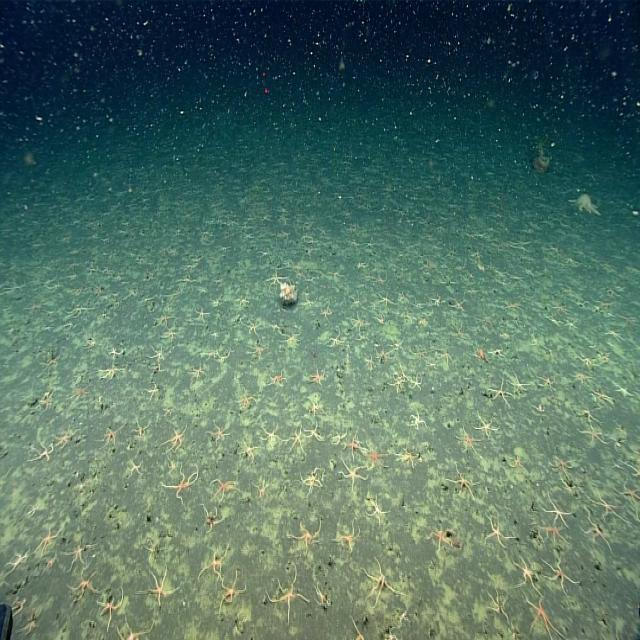brittle-stars: (267, 572, 306, 614), (524, 594, 558, 640), (215, 570, 247, 615), (362, 559, 395, 601), (144, 564, 174, 606), (580, 508, 610, 550), (162, 466, 199, 498), (447, 464, 479, 500), (513, 554, 541, 595), (292, 517, 322, 555), (484, 508, 510, 551), (198, 546, 228, 583), (542, 555, 572, 592), (592, 490, 625, 521), (542, 494, 572, 528), (453, 421, 479, 456), (68, 569, 98, 599), (337, 457, 365, 489), (487, 372, 512, 407), (98, 586, 122, 621), (578, 422, 610, 447), (34, 524, 62, 552), (162, 423, 188, 453), (210, 477, 239, 502), (549, 451, 572, 482), (65, 539, 92, 565), (487, 587, 510, 617), (475, 412, 498, 442), (619, 482, 640, 514), (51, 422, 75, 449), (31, 439, 54, 467), (574, 400, 599, 425), (334, 526, 360, 550), (199, 503, 222, 530), (366, 496, 386, 526), (427, 525, 451, 550), (396, 442, 418, 469), (207, 420, 230, 445), (368, 440, 387, 470), (98, 358, 120, 382), (284, 427, 305, 452), (536, 370, 557, 393), (262, 423, 281, 447), (507, 450, 527, 472), (590, 389, 614, 407), (409, 409, 427, 433), (509, 373, 529, 394), (279, 329, 300, 349), (239, 437, 257, 460), (304, 422, 324, 442), (102, 424, 120, 446), (237, 387, 255, 409), (126, 454, 143, 477), (241, 319, 263, 336), (132, 418, 148, 441), (347, 313, 366, 332), (269, 368, 287, 388), (248, 340, 266, 360), (72, 381, 90, 400), (188, 361, 206, 380), (148, 344, 166, 363), (347, 434, 361, 458), (438, 344, 453, 366), (252, 477, 267, 499), (155, 310, 174, 327), (377, 290, 393, 310), (310, 365, 324, 387), (330, 428, 349, 444), (389, 374, 405, 392), (409, 372, 423, 392), (429, 291, 444, 309), (268, 268, 282, 287), (193, 306, 210, 321), (327, 330, 342, 347), (364, 352, 376, 372), (163, 328, 177, 343), (413, 346, 427, 360), (319, 304, 332, 318), (356, 436, 362, 446)
